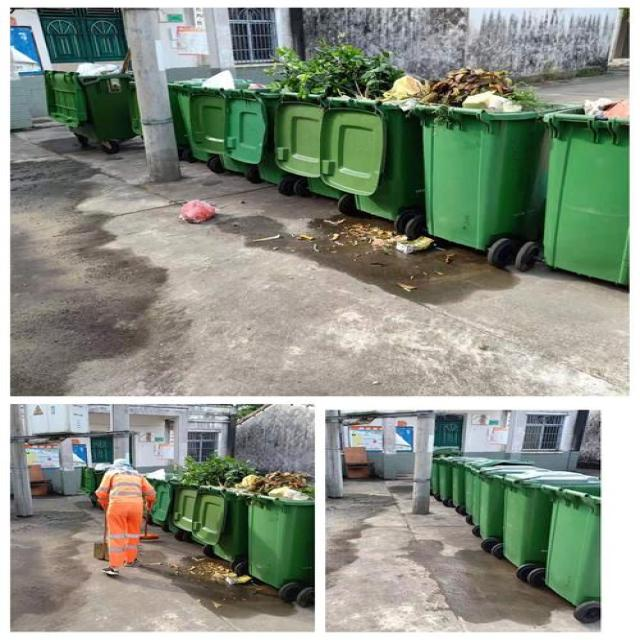garbage: (254, 217, 456, 291), (169, 556, 278, 606), (177, 196, 216, 224)
garbage_bin: (498, 469, 595, 567), (538, 482, 599, 604), (475, 464, 536, 538), (428, 454, 464, 506)
overflow: (415, 67, 545, 249), (316, 44, 425, 219), (542, 98, 628, 285), (272, 44, 344, 200), (235, 470, 312, 587), (184, 68, 260, 172), (44, 62, 134, 142), (189, 453, 247, 560)
